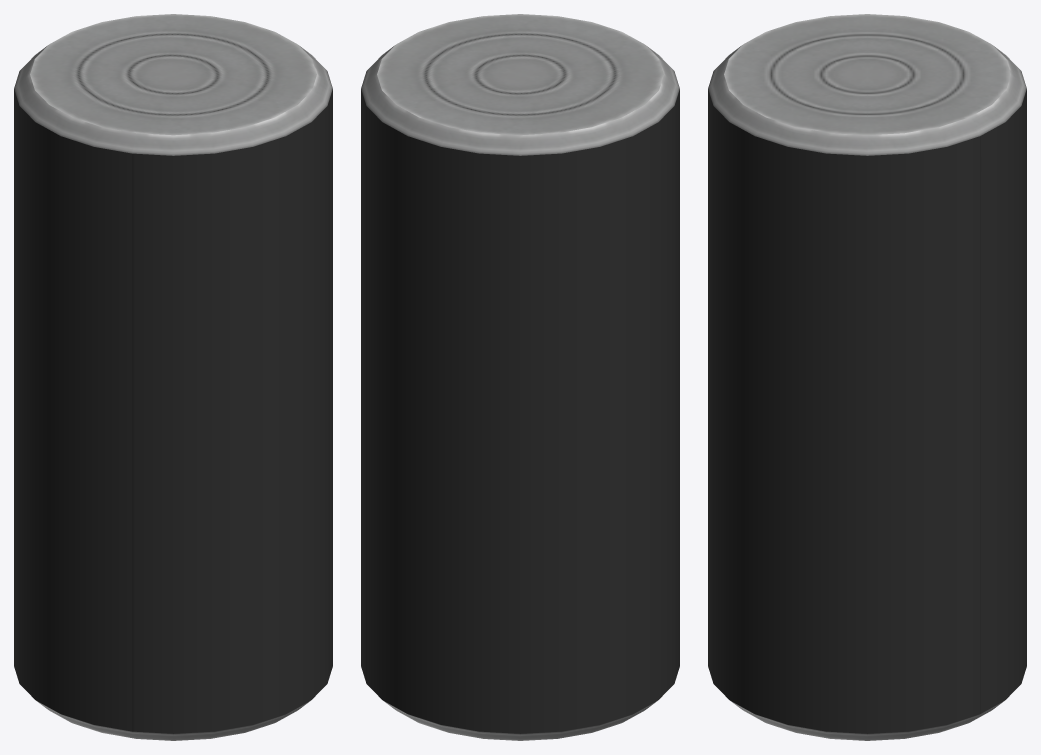
File: Knight_FuelTank_0_3.obj
The picture shows the model from 3 angles, left to right: view 1: azimuth 30°, elevation 25°; view 2: azimuth 150°, elevation 25°; view 3: azimuth 270°, elevation 25°; orthographic projection.
Visible parts, largest first — view 1: Knight_FuelTank_0_3; view 2: Knight_FuelTank_0_3; view 3: Knight_FuelTank_0_3.
Boxes of the visible parts, x1,y1,x2,y2 form: Knight_FuelTank_0_3: (14, 14, 332, 740); Knight_FuelTank_0_3: (361, 14, 679, 740); Knight_FuelTank_0_3: (708, 14, 1026, 740).
Size of the model in its own units: 0.625 by 1.31 by 0.625.
